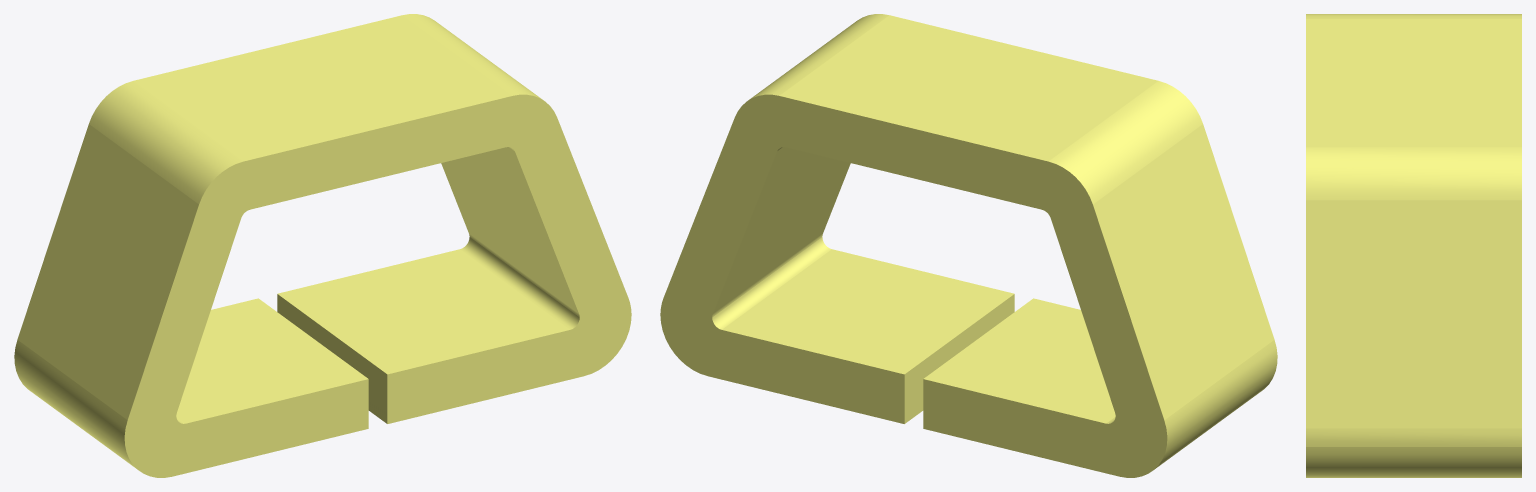
The picture shows the model from 3 angles, left to right: view 1: azimuth 30°, elevation 25°; view 2: azimuth 150°, elevation 25°; view 3: azimuth 270°, elevation 25°; orthographic projection. The views are drawn at different scales.
Parts seen in each view (by area): view 1: 5017; view 2: 5017; view 3: 5017.
Part boxes in pixels (x1=…): 5017: x1=14, y1=14, x2=631, y2=477; 5017: x1=660, y1=14, x2=1277, y2=477; 5017: x1=1306, y1=14, x2=1521, y2=477.
Bounding box in the file's own units: 2.71 × 1.52 × 1.02.
